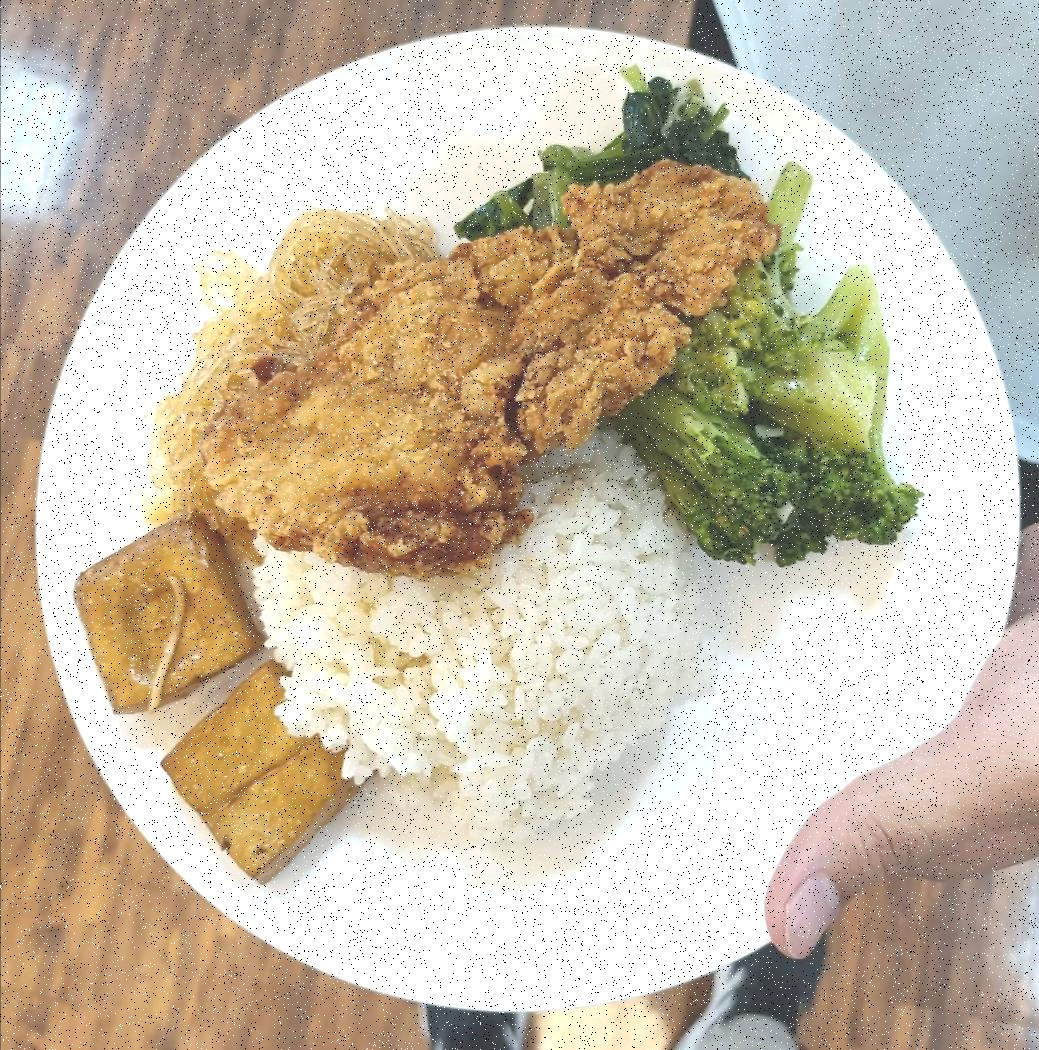kara chicken leg steak: (253, 176, 753, 566)
plate: (31, 25, 1034, 1034)
side dish: (75, 524, 328, 880), (128, 183, 413, 493), (678, 272, 916, 586)
white rice: (232, 417, 722, 829)
